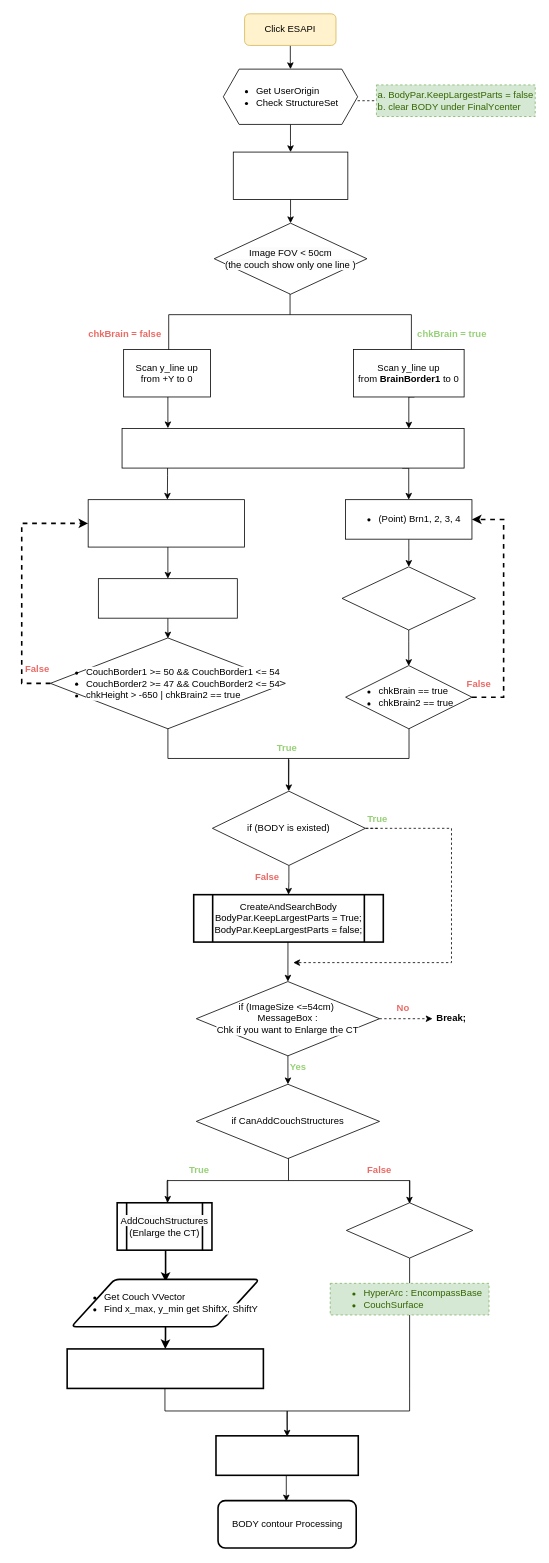
This 549x1563 diagram has some shape labels left out. The shapes that lost their labels are listed below. From the top down, each one's box as (x1, y1, x2, y2) in pixels, then its label:
(232, 151, 348, 199): Find Image center X, Y @ z = 0
(121, 428, 464, 468): Get sum += Math.Abs(x.Value - (-450)) & YLocation
(87, 499, 245, 547): Couch = FindHighestSlope(XProfile)
(98, 578, 237, 618): (Point) Couch1, 2, 3, 4 chkHeight (HU)
(341, 566, 475, 630): if (Brn < -600) chkBrain2 = true
(346, 1202, 473, 1258): if HyperArc
(66, 1348, 264, 1389): AddContourOnImagePlane() new VVector(v.x + ShiftX, v.y + ShiftY, v.z);
(215, 1435, 359, 1476): Find CouchSurface Plane to FinalYcenter
